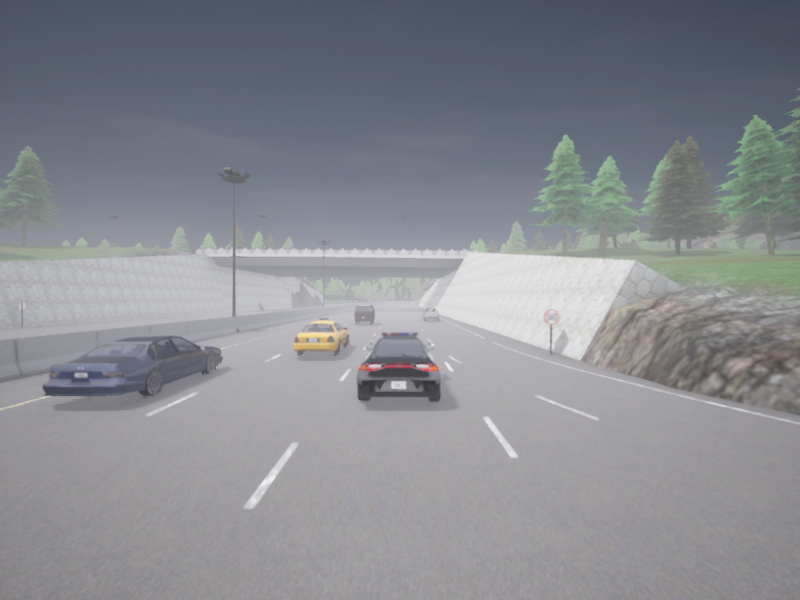vehicle: (42, 335, 222, 396), (356, 332, 440, 400), (293, 318, 348, 354), (355, 304, 375, 323), (422, 308, 438, 320)
